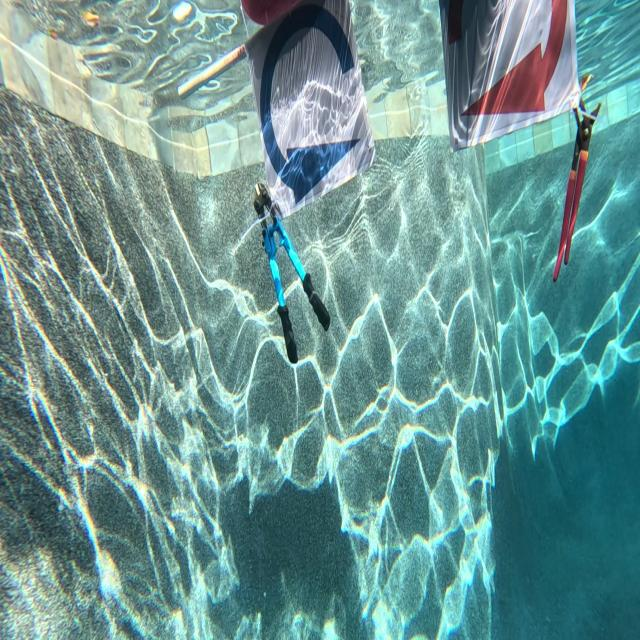blue_side: (242, 0, 366, 211)
red_side: (439, 0, 593, 146)
